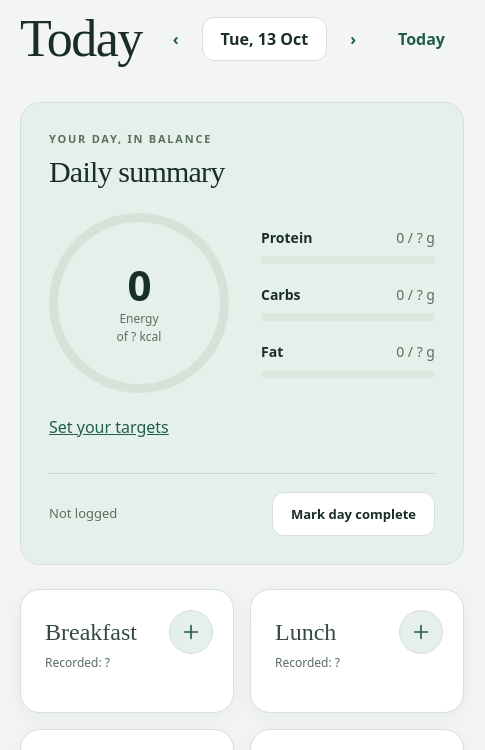
Test: DayPage › prev and next move one day
The image size is (485, 750).
Click the button named "Previous day". click: (176, 39)
box: [154,17,198,61]
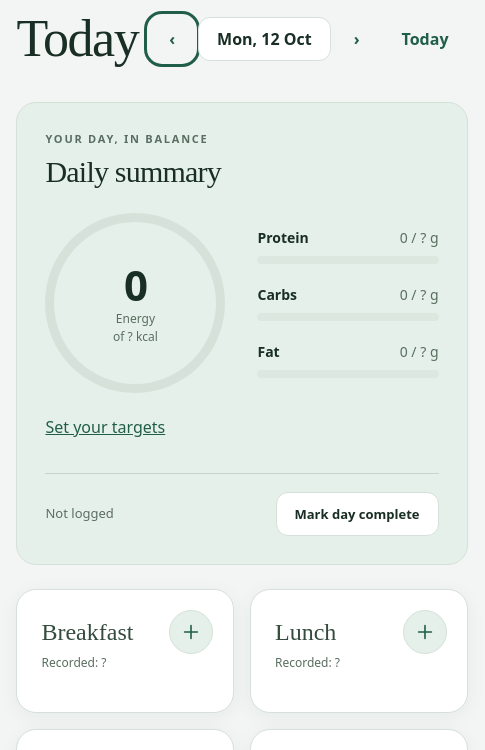
Expected: the button with aria-label "Choose date 2026-10-12" is shown, [198,17,331,61]
Click the button named "Next day". click: (357, 39)
box: [335,17,379,61]
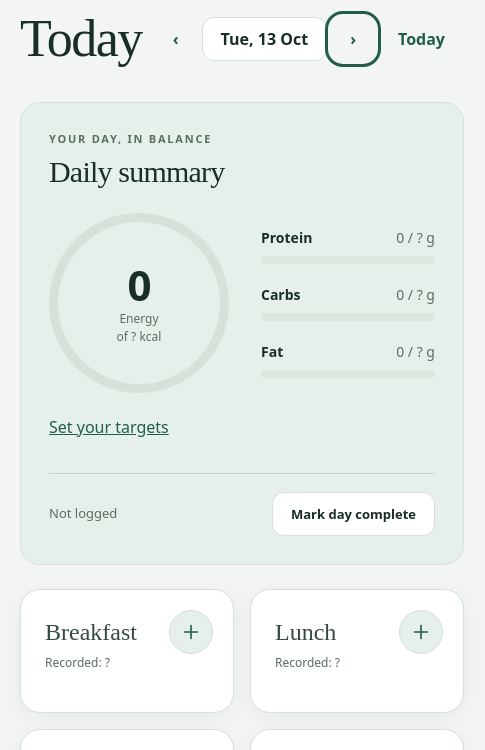
Click the button named "Next day". click: (353, 39)
box: [331,17,375,61]
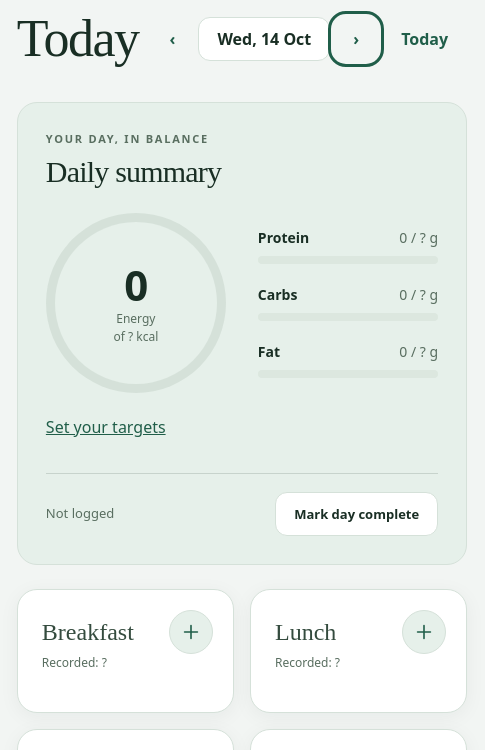
Expected: the button with aria-label "Choose date 2026-10-14" is shown, [198,17,330,61]
